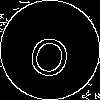O: (25, 25, 76, 81)
